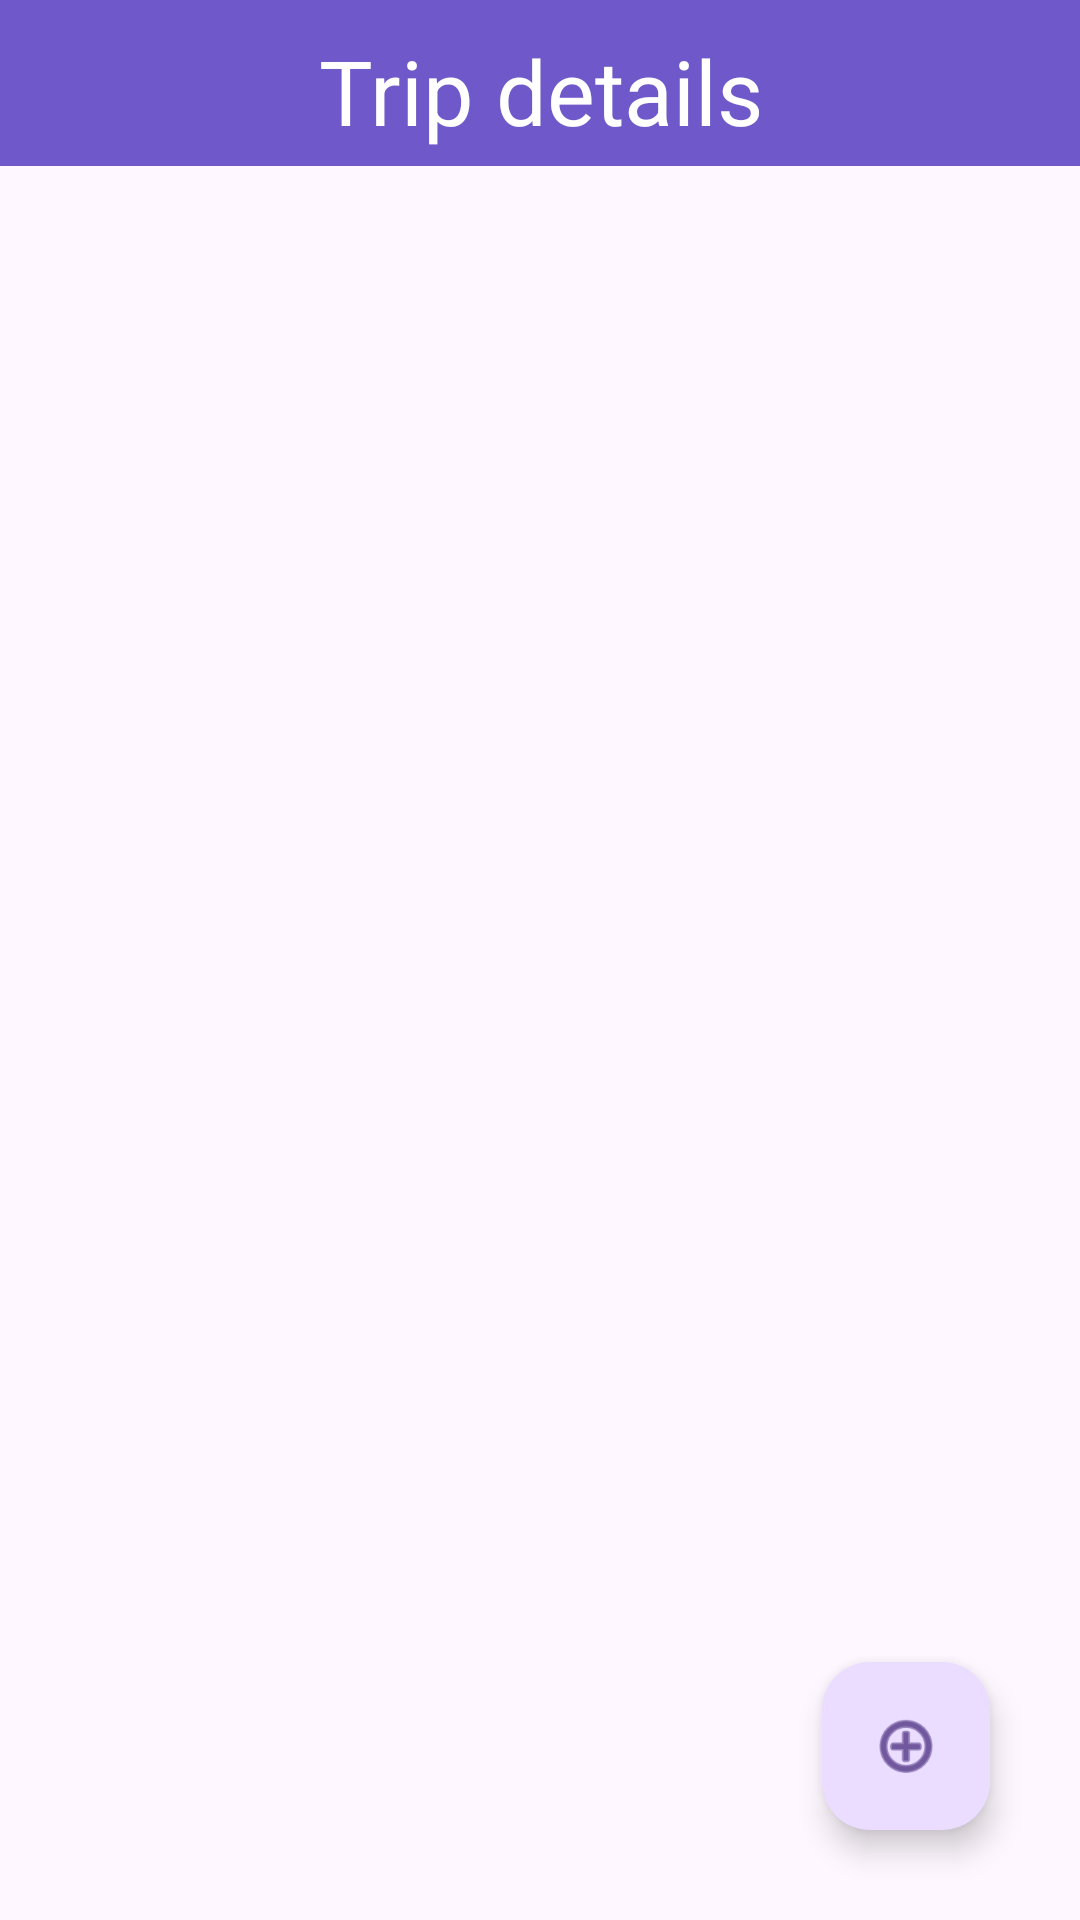

Where to tap for icons on this 1080×1920 app screen, as (x=x, y=y):
Add new detail: (x=906, y=1746)
